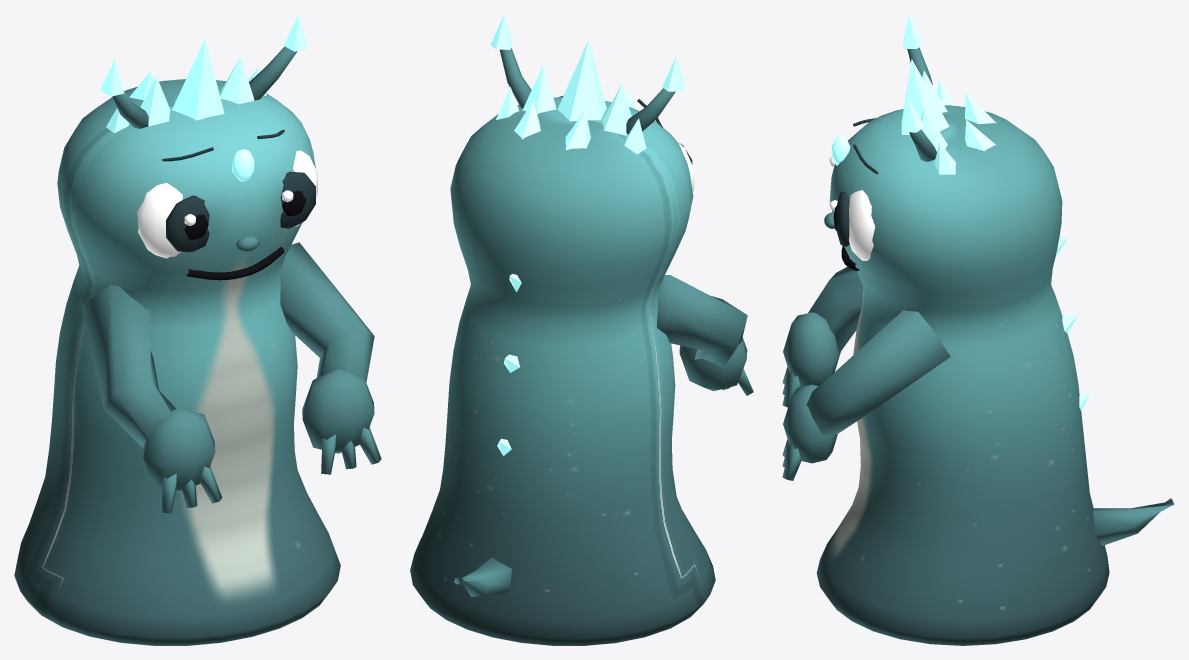
Rendered from escarcha_pixar.glb.
The picture shows the model from 3 angles, left to right: view 1: azimuth 30°, elevation 25°; view 2: azimuth 150°, elevation 25°; view 3: azimuth 270°, elevation 25°; orthographic projection. The views are drawn at different scales.
Visible parts, largest first — view 1: escarcha_cuerpo; view 2: escarcha_cuerpo; view 3: escarcha_cuerpo.
Part boxes in pixels (x1,y1,x2,y2): escarcha_cuerpo: (14, 14, 381, 645); escarcha_cuerpo: (410, 14, 753, 645); escarcha_cuerpo: (782, 14, 1174, 645).
Size of the model in its own units: 0.3061 by 0.58 by 0.39.
5 materials, 1 textured.
